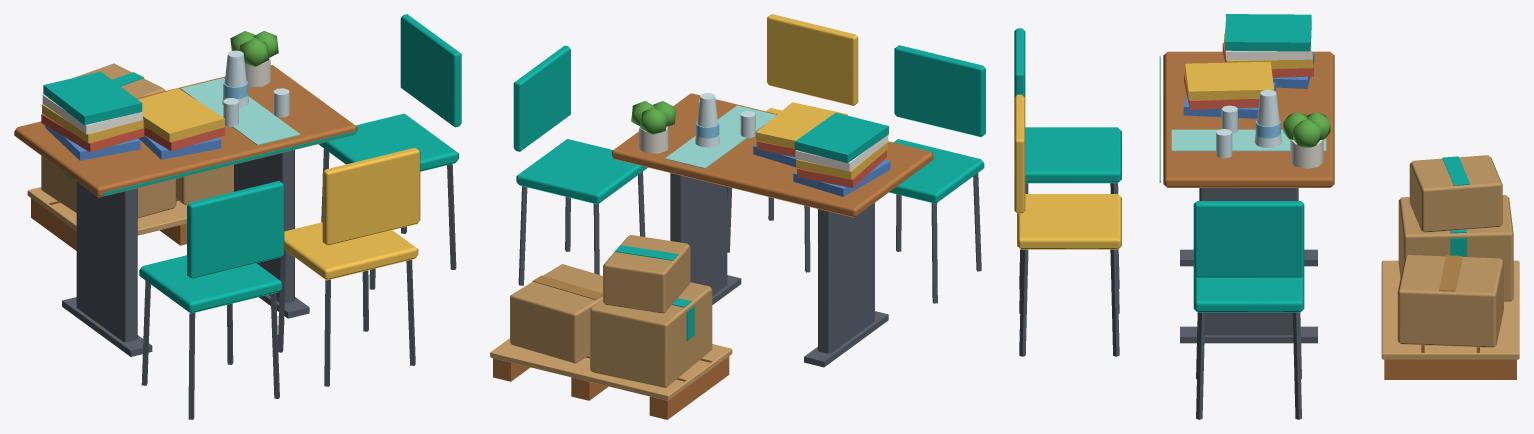
The model's file is station_special_1.glb.
The picture shows the model from 3 angles, left to right: view 1: azimuth 30°, elevation 25°; view 2: azimuth 150°, elevation 25°; view 3: azimuth 270°, elevation 25°; orthographic projection. The views are drawn at different scales.
Visible parts, largest first — view 1: station_special_1; view 2: station_special_1; view 3: station_special_1.
Boxes of the visible parts, box(x1,y1,x2,y2) form: station_special_1: box(14, 14, 461, 419); station_special_1: box(490, 14, 985, 419); station_special_1: box(1014, 14, 1519, 419).
Size of the model in its own units: 1.6 by 0.9413 by 1.83.
